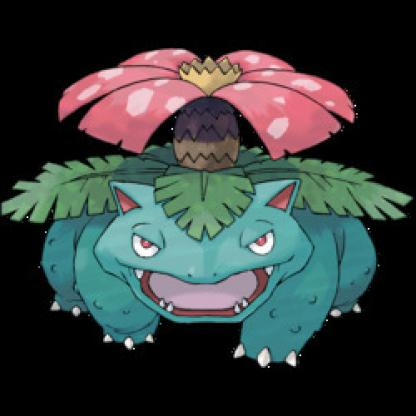Venusaur: (1, 22, 416, 398)
